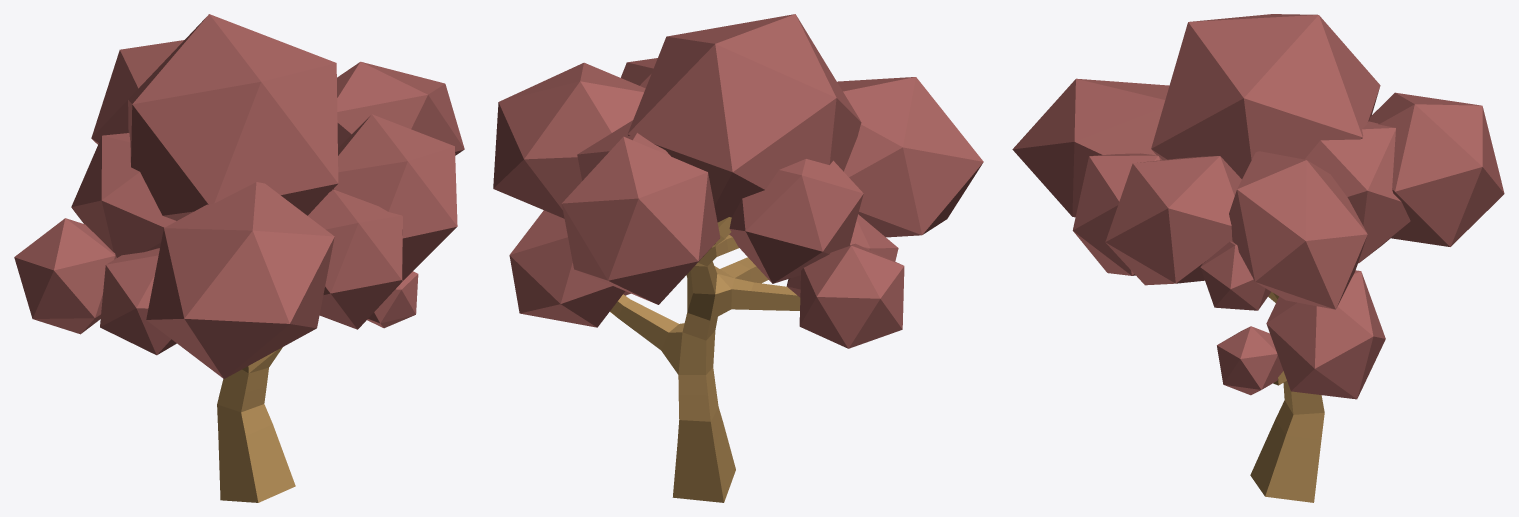
File: tree_cherry_023.fbx
3 renders of one model, left to right at view 1: azimuth 30°, elevation 25°; view 2: azimuth 150°, elevation 25°; view 3: azimuth 270°, elevation 25°, orthographic. The views are drawn at different scales.
Parts seen in each view (by area): view 1: Icosphere.004, Icosphere.011, Icosphere.010, Icosphere.012, Cube, Icosphere.005, Icosphere.008, Icosphere.013, Icosphere.006, Icosphere.009, Icosphere.001; view 2: Icosphere.004, Icosphere.009, Cube, Icosphere.011, Icosphere.013, Icosphere.008, Icosphere.005, Icosphere.002, Icosphere.007, Icosphere.006, Icosphere.010; view 3: Icosphere.004, Icosphere.013, Icosphere.009, Icosphere.010, Icosphere.011, Icosphere.002, Icosphere.007, Cube, Icosphere.012, Icosphere.001, Icosphere.
Part boxes in pixels (left/top/right/bottom): Icosphere.004: left=128, top=14, right=338, bottom=220; Icosphere.011: left=146, top=182, right=334, bottom=378; Icosphere.010: left=333, top=114, right=457, bottom=280; Icosphere.012: left=308, top=189, right=402, bottom=329; Cube: left=217, top=347, right=295, bottom=502; Icosphere.005: left=14, top=218, right=116, bottom=334; Icosphere.008: left=71, top=133, right=175, bottom=257; Icosphere.013: left=337, top=61, right=464, bottom=155; Icosphere.006: left=100, top=248, right=176, bottom=355; Icosphere.009: left=91, top=40, right=183, bottom=144; Icosphere.001: left=367, top=271, right=418, bottom=328; Icosphere.004: left=627, top=14, right=861, bottom=222; Icosphere.009: left=561, top=136, right=720, bottom=304; Cube: left=610, top=217, right=800, bottom=502; Icosphere.011: left=837, top=77, right=983, bottom=237; Icosphere.013: left=493, top=62, right=645, bottom=218; Icosphere.008: left=729, top=159, right=863, bottom=283; Icosphere.005: left=799, top=243, right=904, bottom=348; Icosphere.002: left=509, top=210, right=625, bottom=327; Icosphere.007: left=577, top=120, right=670, bottom=180; Icosphere.006: left=786, top=214, right=898, bottom=297; Icosphere.010: left=621, top=58, right=657, bottom=88; Icosphere.004: left=1151, top=14, right=1380, bottom=178; Icosphere.013: left=1229, top=151, right=1367, bottom=309; Icosphere.009: left=1369, top=92, right=1504, bottom=246; Icosphere.010: left=1105, top=156, right=1241, bottom=285; Icosphere.011: left=1012, top=78, right=1169, bottom=217; Icosphere.002: left=1266, top=270, right=1385, bottom=399; Icosphere.007: left=1305, top=121, right=1410, bottom=263; Cube: left=1250, top=292, right=1324, bottom=502; Icosphere.012: left=1072, top=153, right=1161, bottom=275; Icosphere.001: left=1217, top=326, right=1283, bottom=395; Icosphere: left=1200, top=241, right=1270, bottom=310.
Size of the model in its own units: 413 by 457 by 437.
